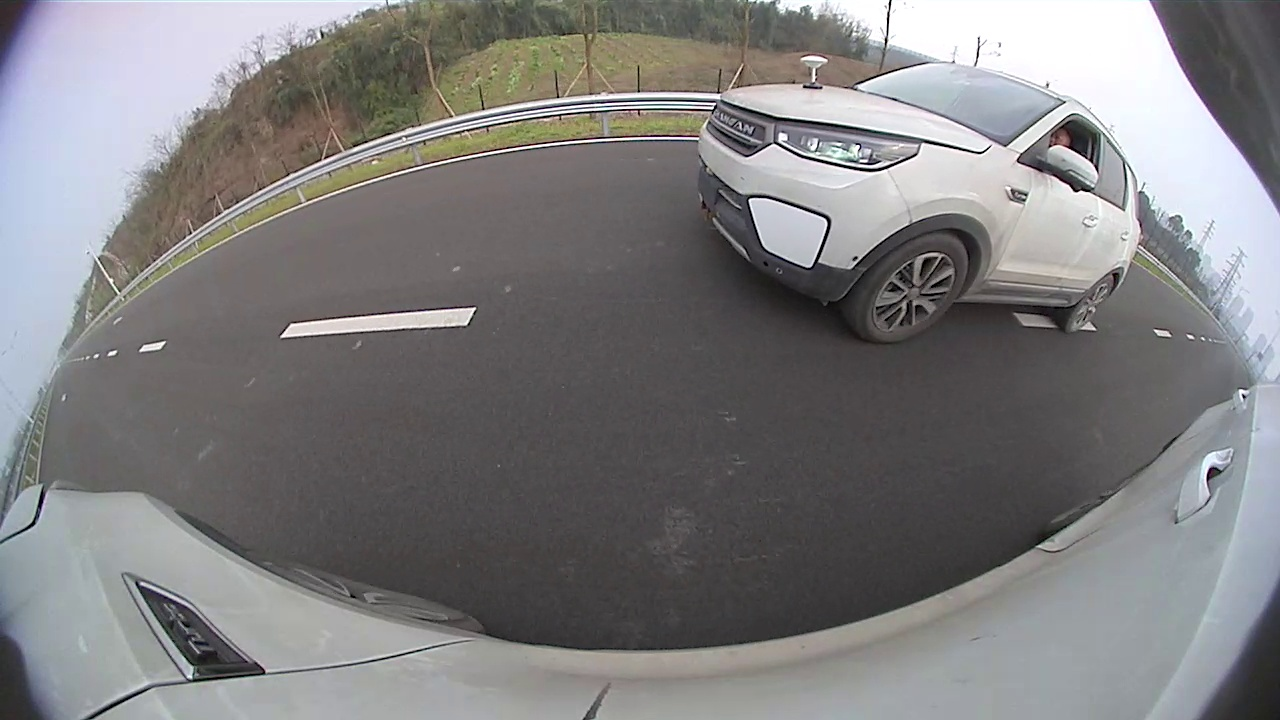car: (696, 53, 1141, 347)
front: (861, 236, 967, 342)
rear: (1065, 273, 1115, 330)
